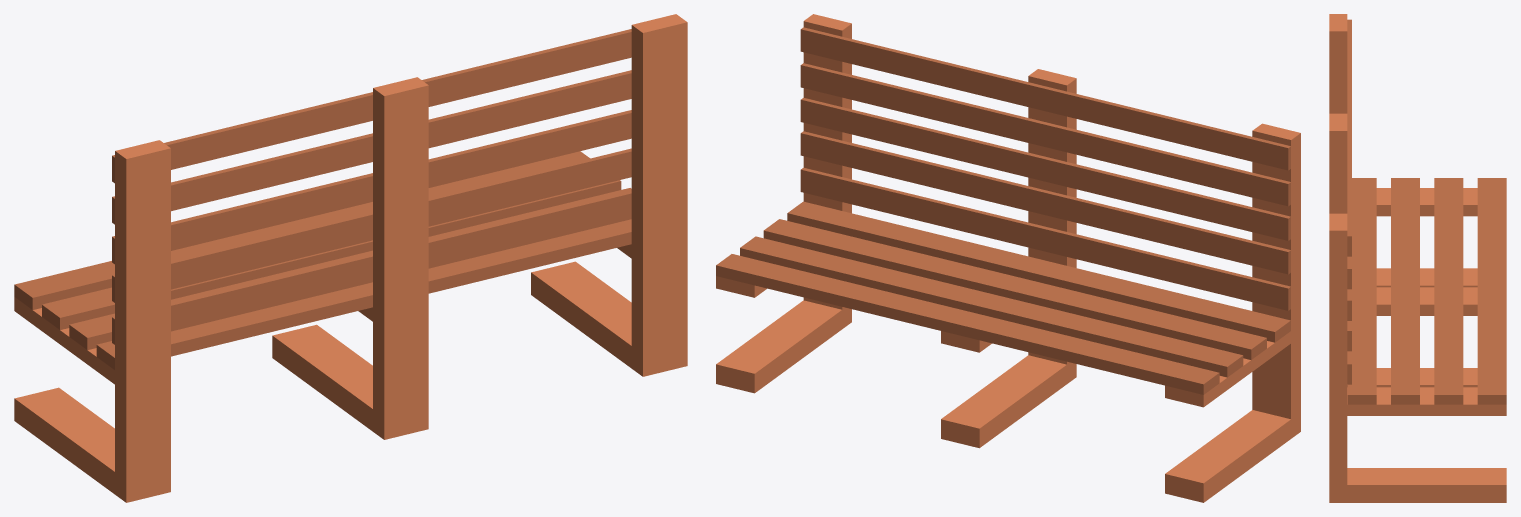
The model's file is bank.fbx.
3 views of the same model, side by side, from view 1: azimuth 30°, elevation 25°; view 2: azimuth 150°, elevation 25°; view 3: azimuth 270°, elevation 25° (orthographic). The views are drawn at different scales.
Visible parts, largest first — view 1: Cube.008; view 2: Cube.008; view 3: Cube.008.
Part boxes in pixels (<box>): Cube.008: <box>14,14,687,502</box>; Cube.008: <box>716,14,1300,502</box>; Cube.008: <box>1329,14,1506,502</box>.
Bounding box in the file's own units: 614 × 360 × 212.
